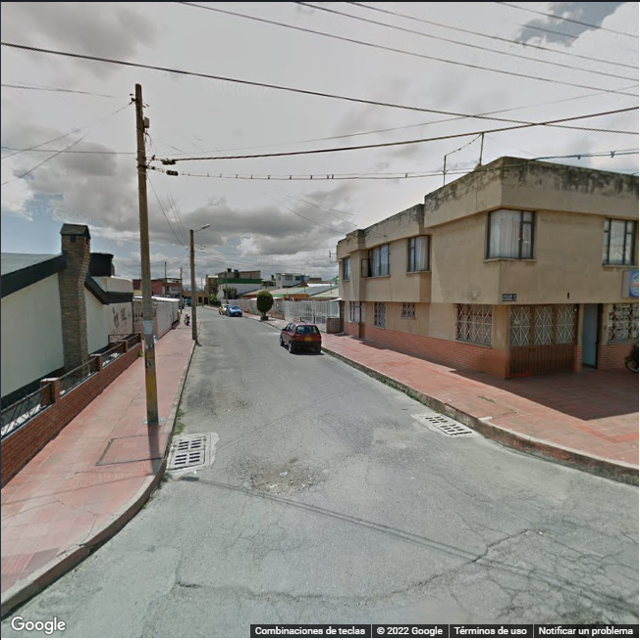D00: (416, 464, 484, 497), (213, 523, 246, 572), (455, 513, 497, 542)
D20: (503, 549, 632, 627)
D40: (253, 462, 319, 496)
